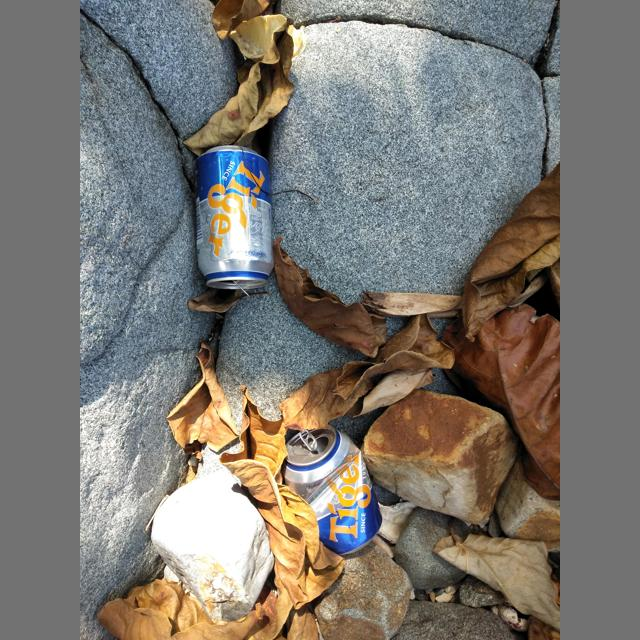litter: (282, 424, 382, 555), (195, 145, 274, 289), (299, 429, 317, 452), (232, 280, 251, 298)
